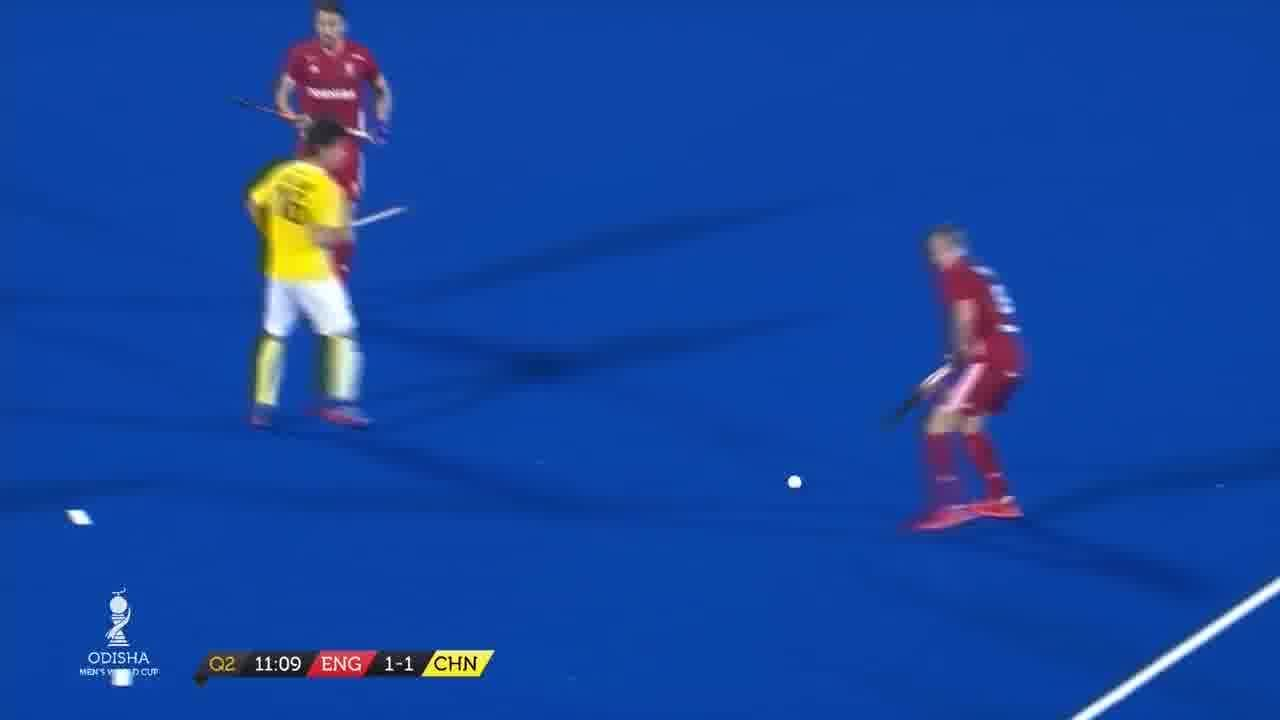ball: (778, 468, 821, 500)
